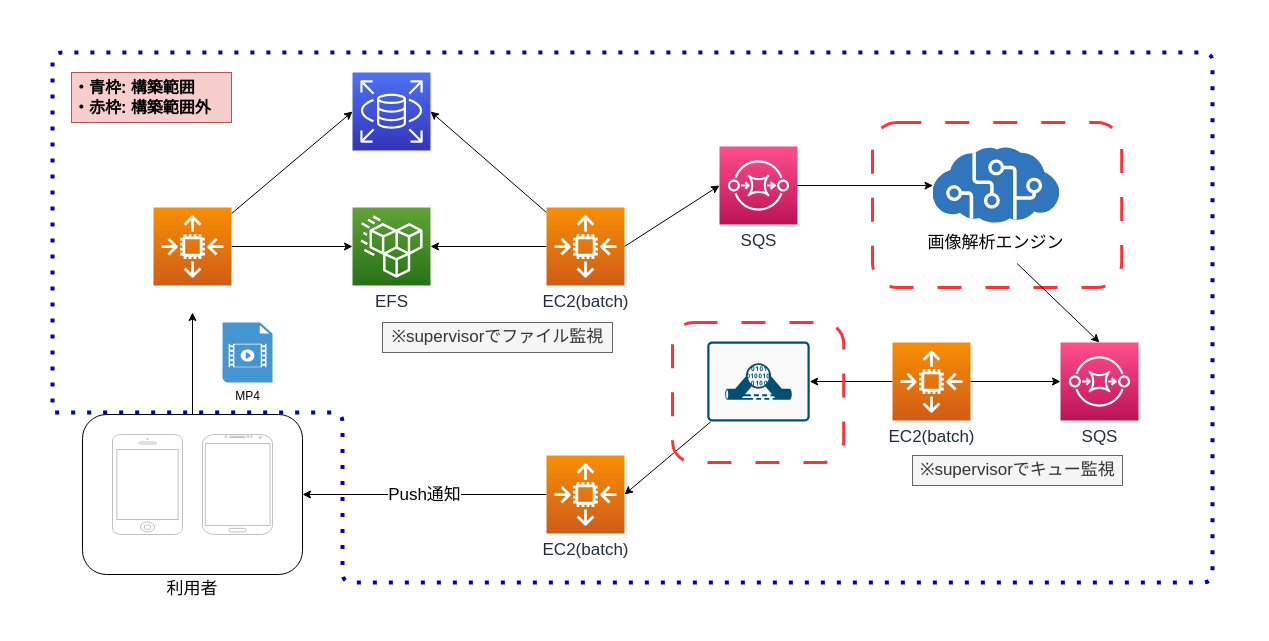
Image size: 1269x641. Some labels were removed from this diagram. The box of each missing label's shape, as (x1, y1, x2, y2) in pixels:
Android: (202, 434, 272, 534)
EC2(app): (152, 206, 232, 286)
iOS: (112, 434, 182, 534)
RDS: (352, 72, 430, 150)
解析システム: (706, 340, 810, 422)
